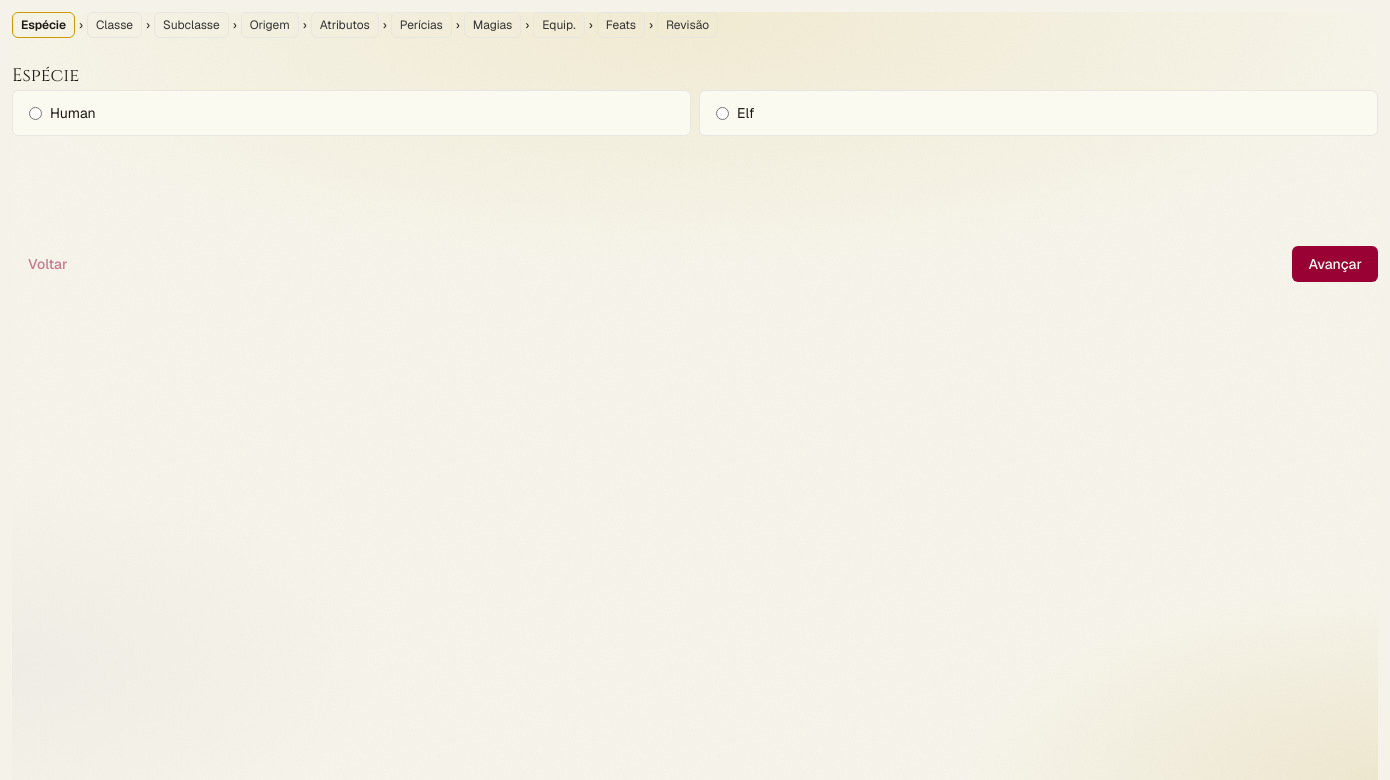
Test: CharacterWizard — validação › deve bloquear o avanço sem espécie escolhida
Click the button "Avançar". click: (1335, 264)
box: [1292,246,1378,282]
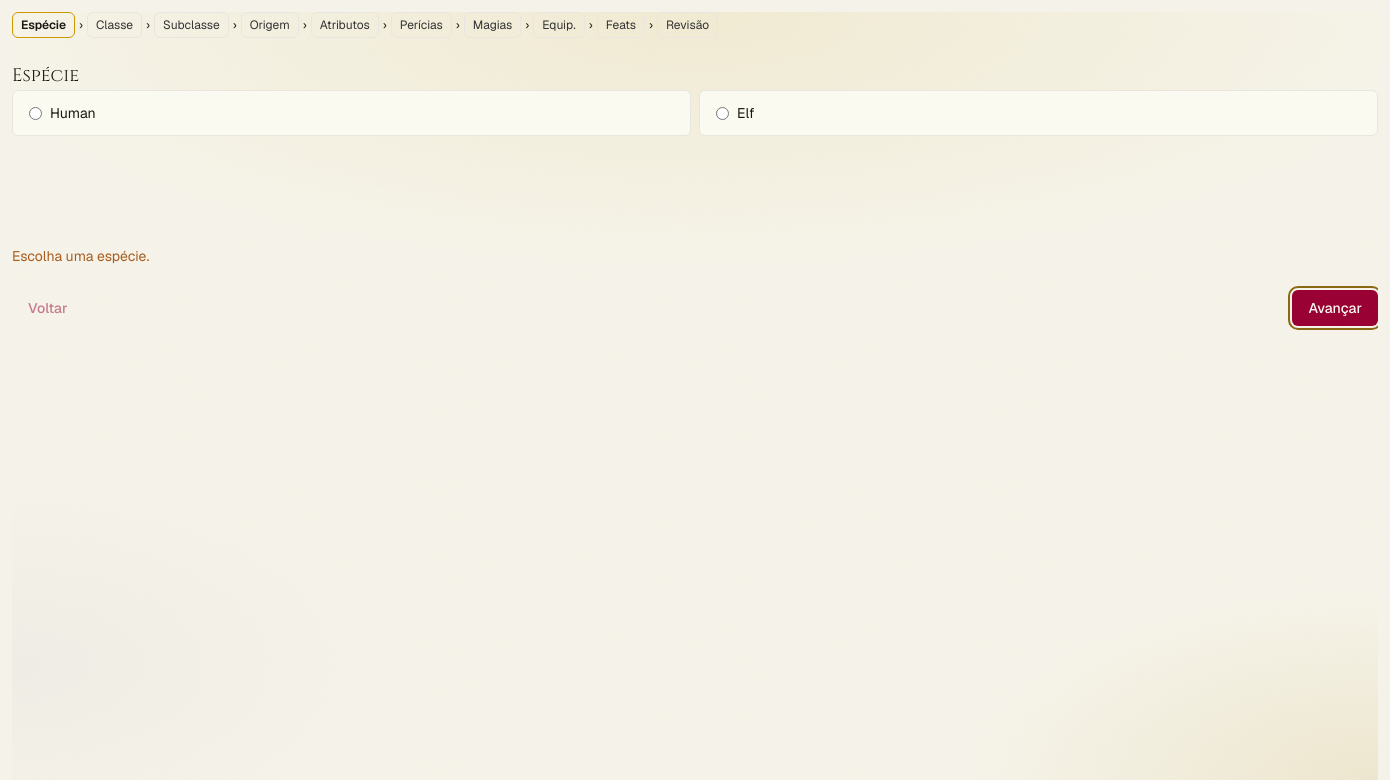
Expected: the text "Espécie" is shown, [12,62,79,90]
Result: the message reads "Escolha uma espécie." at [12,247,149,265]
